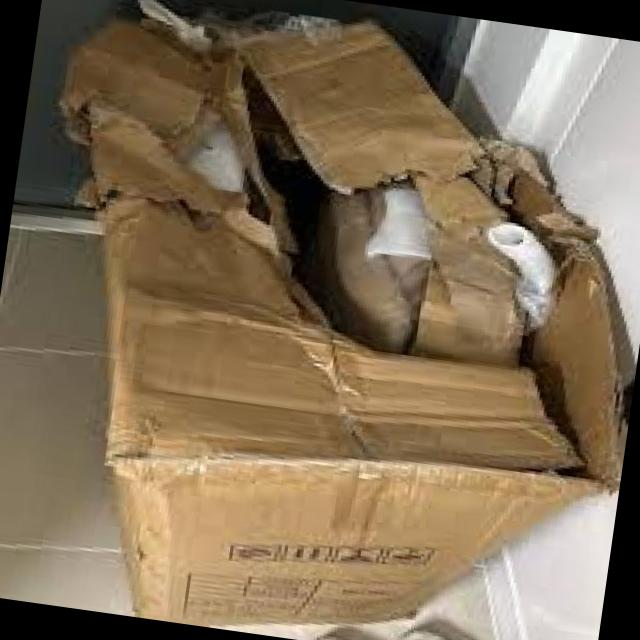box: (64, 1, 625, 621)
crushed: (94, 303, 353, 500), (346, 379, 548, 439)
opened: (243, 0, 640, 363), (65, 2, 237, 247), (492, 339, 626, 497)
